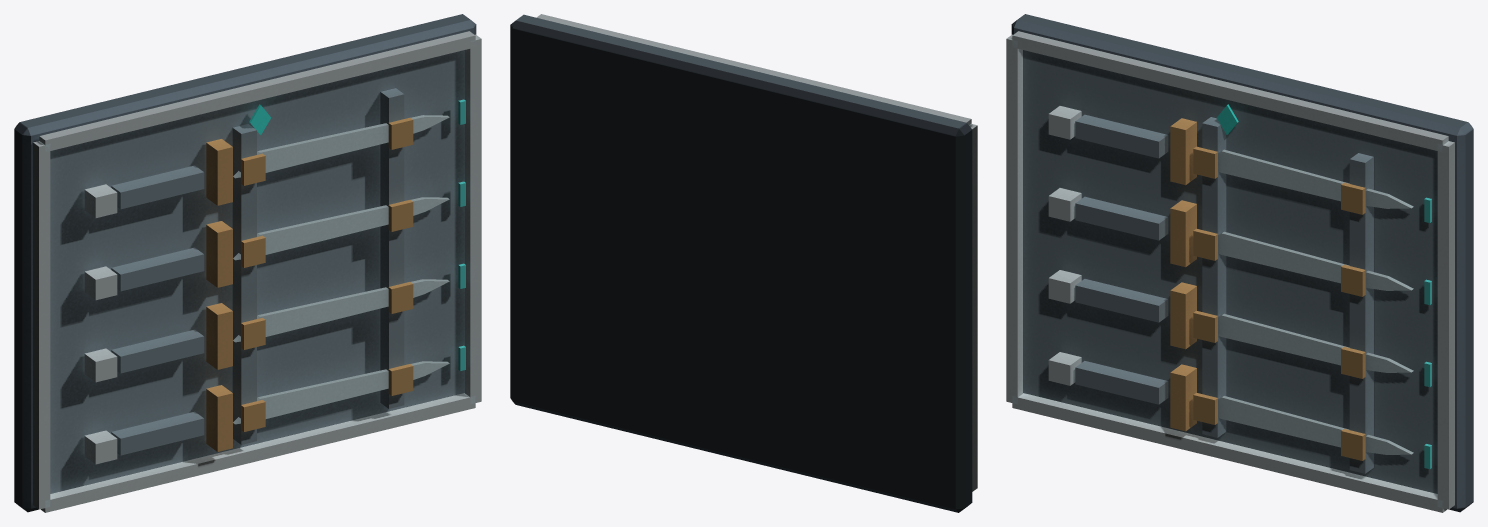
The model's file is 0-20261016-1900-ev022-r04-mockup-swordwallrack_baked.glb.
3 views of the same model, side by side, from view 1: azimuth 30°, elevation 25°; view 2: azimuth 150°, elevation 25°; view 3: azimuth 330°, elevation 25° (orthographic).
Parts seen in each view (by area): view 1: SW_Showroom_SwordWallRack; view 2: SW_Showroom_SwordWallRack; view 3: SW_Showroom_SwordWallRack.
Part boxes in pixels (x1=…): SW_Showroom_SwordWallRack: x1=14, y1=14, x2=481, y2=512; SW_Showroom_SwordWallRack: x1=510, y1=14, x2=977, y2=512; SW_Showroom_SwordWallRack: x1=1006, y1=14, x2=1473, y2=512.
Bounding box in the file's own units: 2.2 × 1.78 × 0.262.
1 material, 1 textured.
